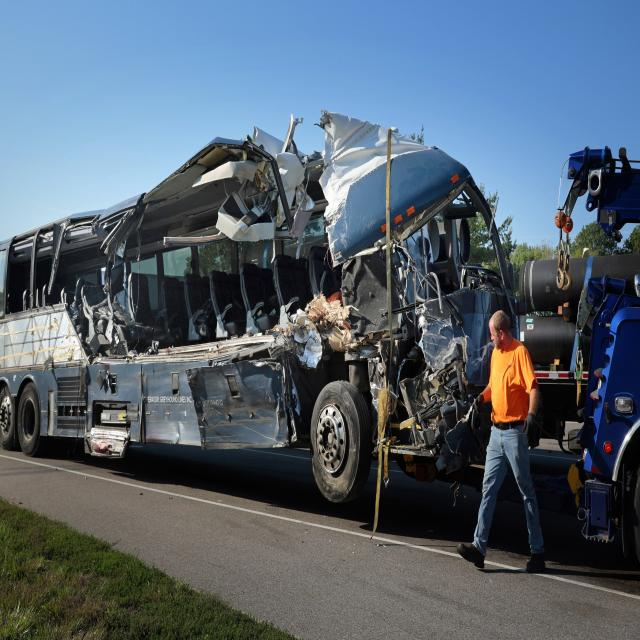Accident: (0, 107, 533, 532)
